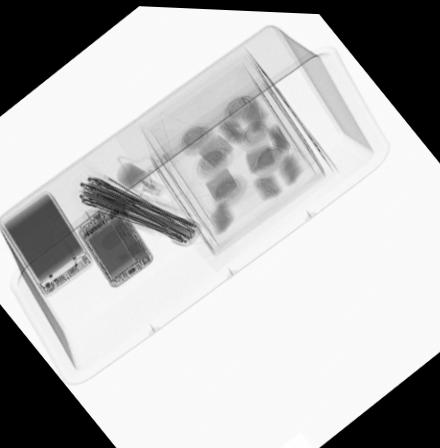Powerbank: (1, 189, 95, 296)
